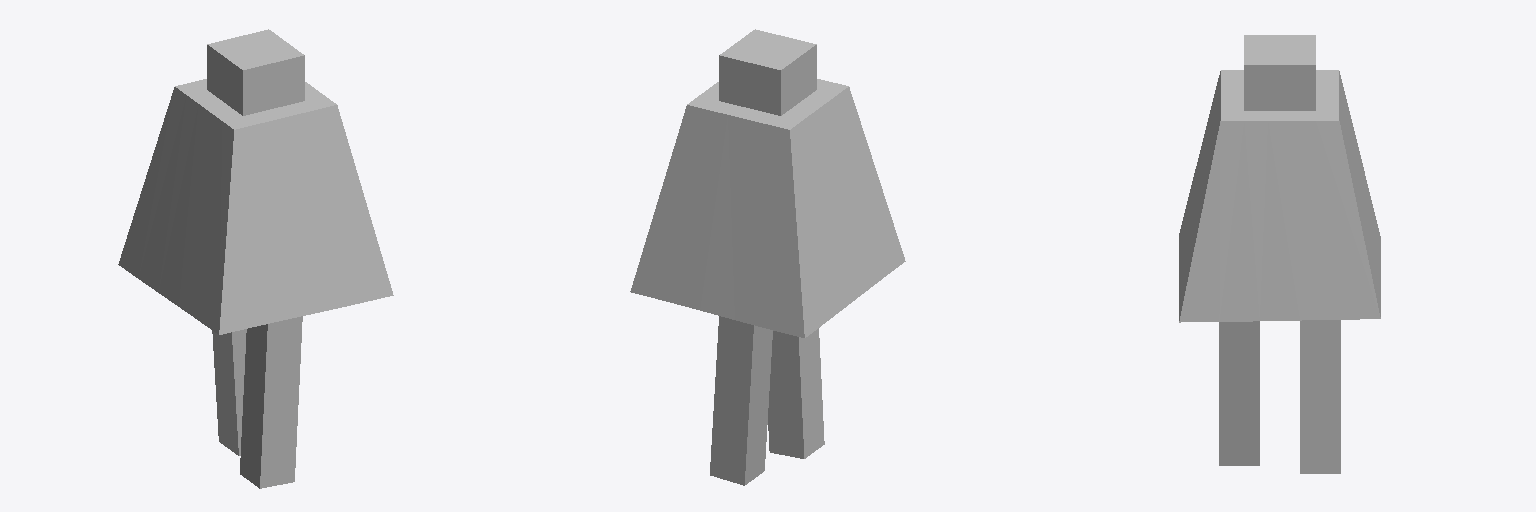
Rendered from essai_000025.obj.
3 views of the same model, side by side, from view 1: azimuth 30°, elevation 25°; view 2: azimuth 150°, elevation 25°; view 3: azimuth 270°, elevation 25° (orthographic).
Visible parts, largest first — view 1: Cube; view 2: Cube; view 3: Cube.
Boxes of the visible parts, x1,y1,x2,y2 form: Cube: [118, 29, 393, 488]; Cube: [630, 29, 905, 485]; Cube: [1179, 35, 1380, 473].
Bounding box in the file's own units: 2 × 4.51 × 2.